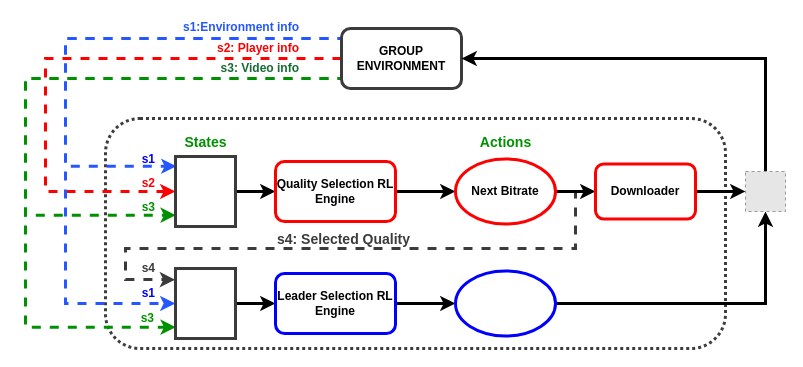
Some shapes in this 803 by 367 pixel diagram are drawn without their labels. Grey dashed boxes stand in for pictures. Here are the shapes that lost their labels. From the top down, the box of each, then its label:
(174, 154, 236, 228): Quality Selection State
(174, 266, 236, 340): Leader Selection State
(454, 269, 556, 337): Next Agent
